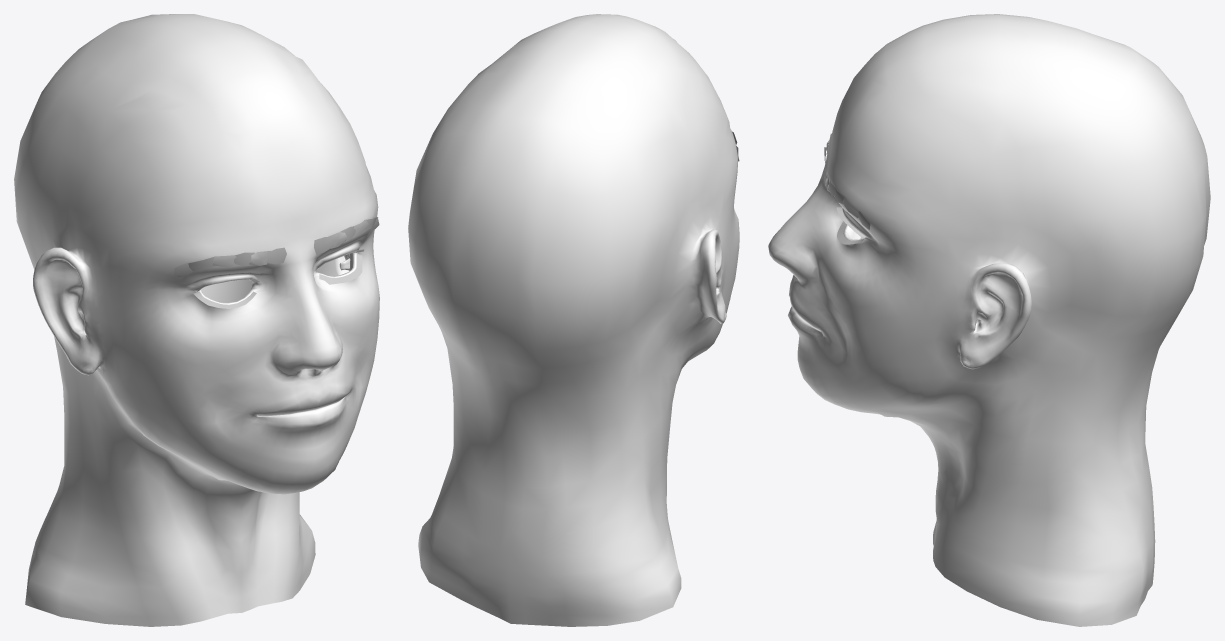
The model's file is eyeLookOutRight.obj.
The picture shows the model from 3 angles, left to right: view 1: azimuth 30°, elevation 25°; view 2: azimuth 150°, elevation 25°; view 3: azimuth 270°, elevation 25°; orthographic projection. The views are drawn at different scales.
Parts seen in each view (by area): view 1: FaceMesh_Plane.003; view 2: FaceMesh_Plane.003; view 3: FaceMesh_Plane.003.
Boxes of the visible parts, x1=… form: FaceMesh_Plane.003: x1=14, y1=14, x2=379, y2=626; FaceMesh_Plane.003: x1=408, y1=14, x2=739, y2=626; FaceMesh_Plane.003: x1=768, y1=14, x2=1210, y2=626.
Bounding box in the file's own units: 1.54 × 2.71 × 1.94.
Materials: 5 (1 with a texture image).
